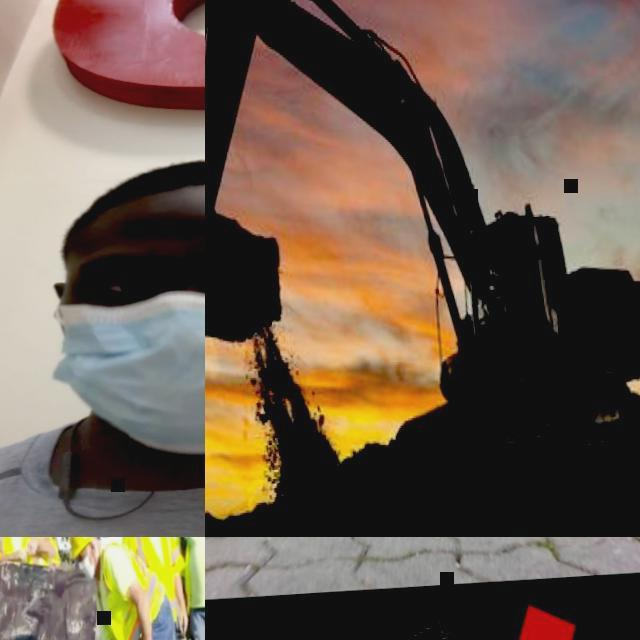helmet: (69, 537, 102, 556)
machinery: (205, 0, 640, 500)
mask: (48, 283, 205, 463), (78, 545, 98, 582)
no_helmet: (58, 150, 205, 240)
no_vest: (0, 414, 205, 537)
person: (0, 127, 205, 537), (68, 537, 190, 640), (116, 537, 200, 640), (0, 537, 58, 570), (21, 537, 60, 565)
vest: (95, 537, 169, 640), (122, 537, 189, 621), (178, 537, 205, 604), (0, 537, 43, 565)
